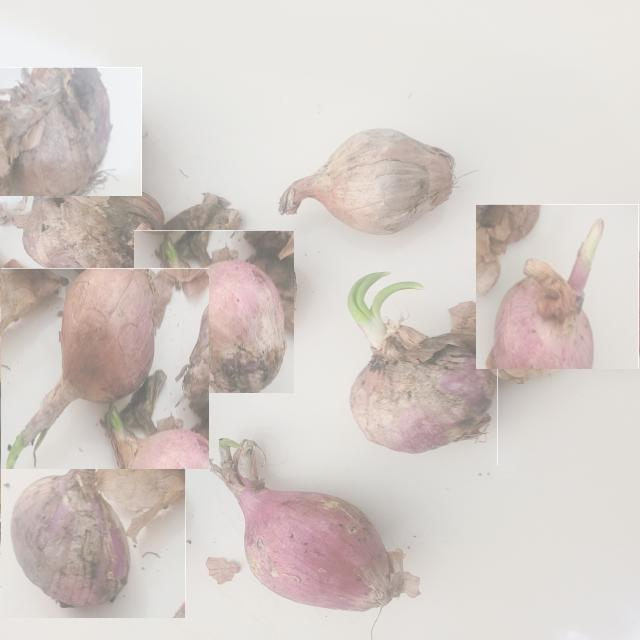healthy: (487, 219, 602, 380), (279, 130, 454, 233)
rotten: (348, 273, 495, 453), (11, 470, 129, 607), (0, 69, 111, 196), (9, 194, 163, 267)
sprouting: (212, 440, 419, 610), (6, 269, 155, 467)
